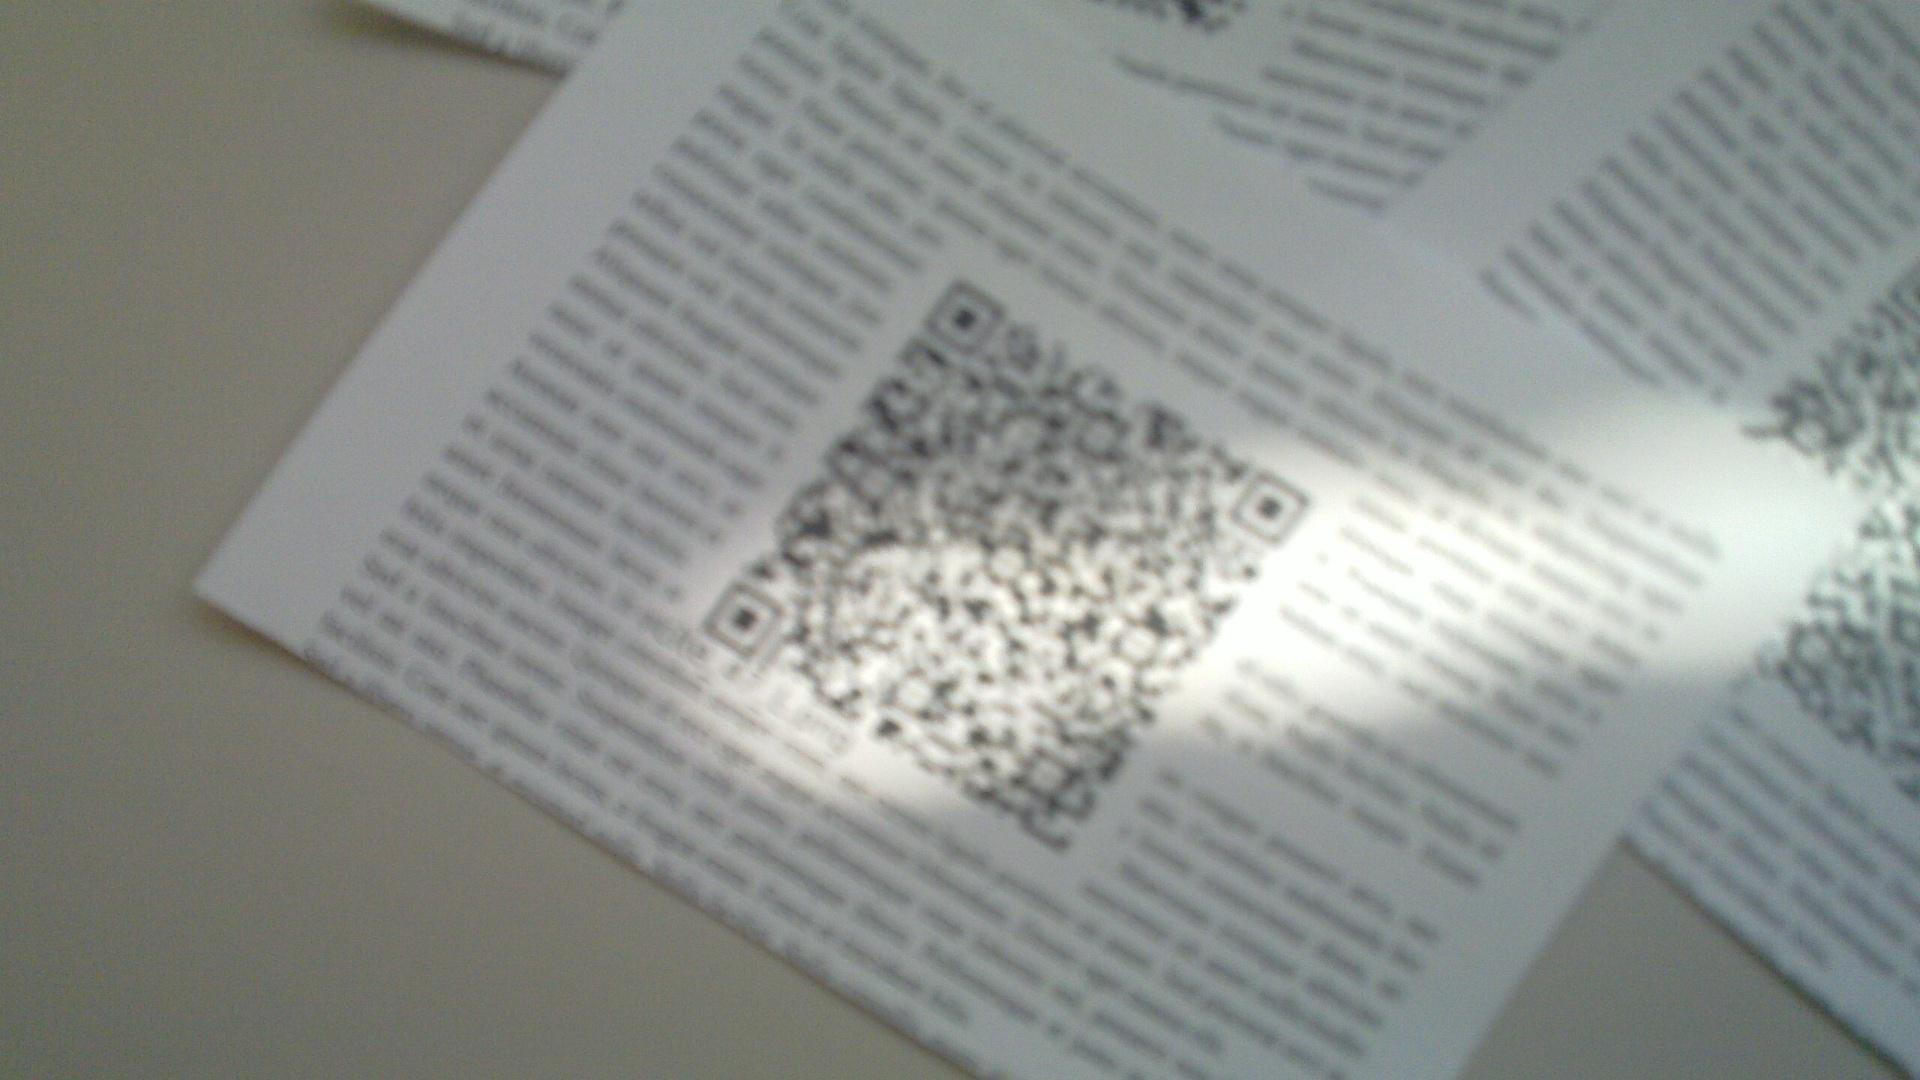Finder pattern: (1229, 464, 1313, 553), (696, 582, 789, 659), (924, 276, 1000, 360)
